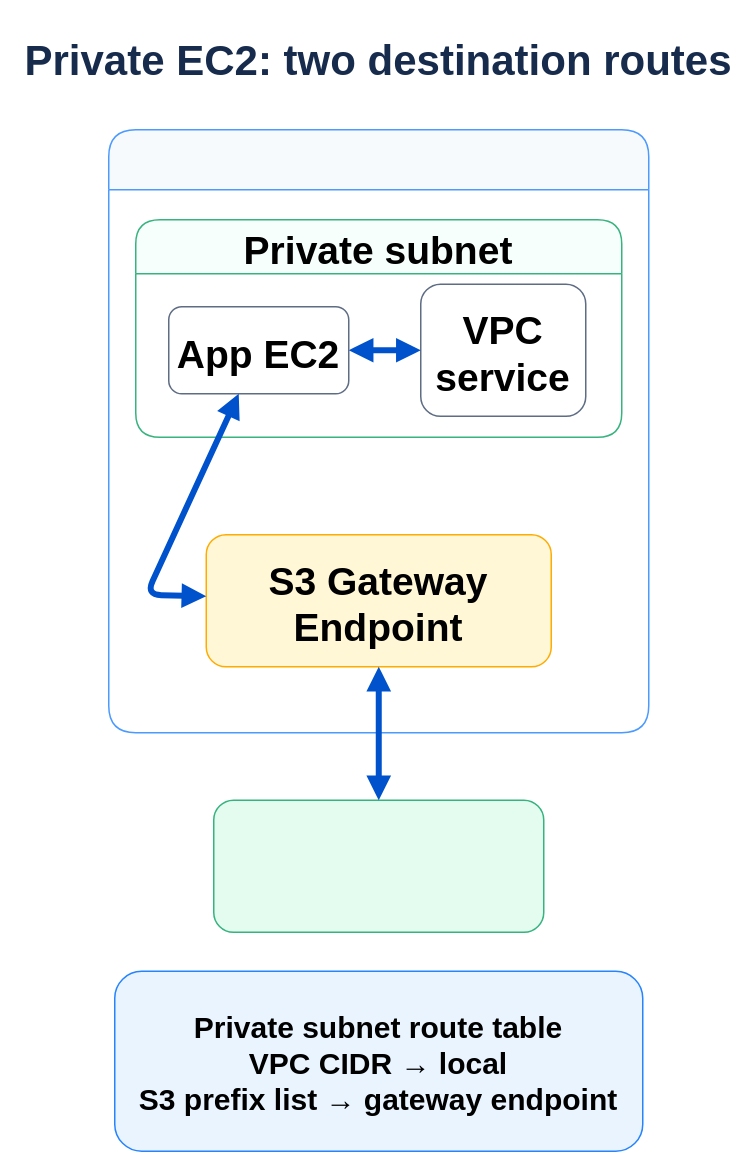
The diagram is 756 pixels wide and 1176 high, and some of its shapes have lost their labels. The shapes that lost their labels are listed below. From the top down, each one's box as (x1, y1, x2, y2) in pixels, then its label:
(107, 128, 649, 733): VPC 10.0.0.0/16
(212, 799, 544, 932): Amazon S3 same Region
